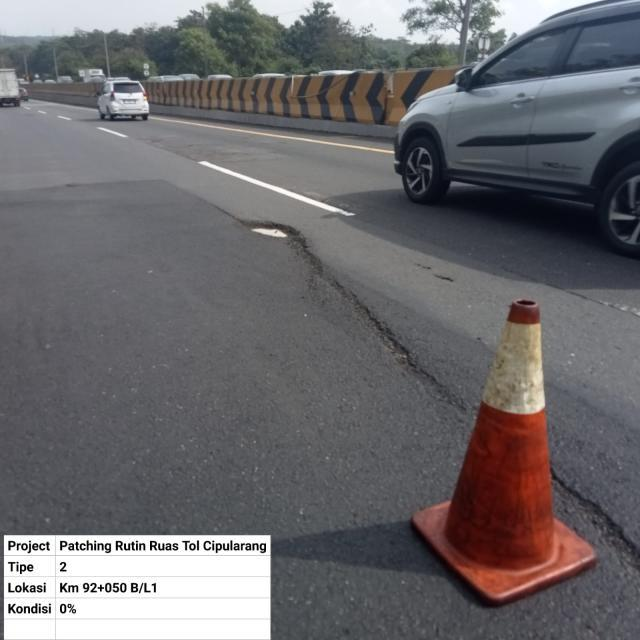Buraco: (239, 219, 303, 243)
